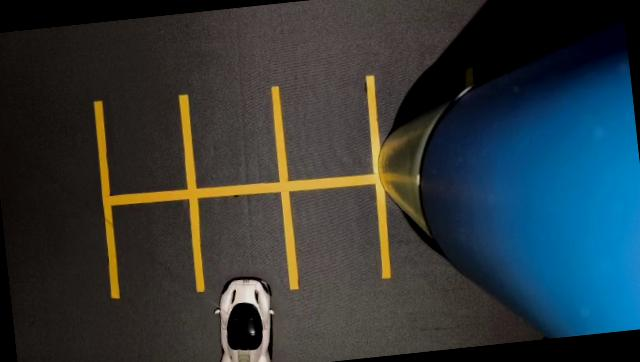toy_car: (193, 261, 284, 362)
